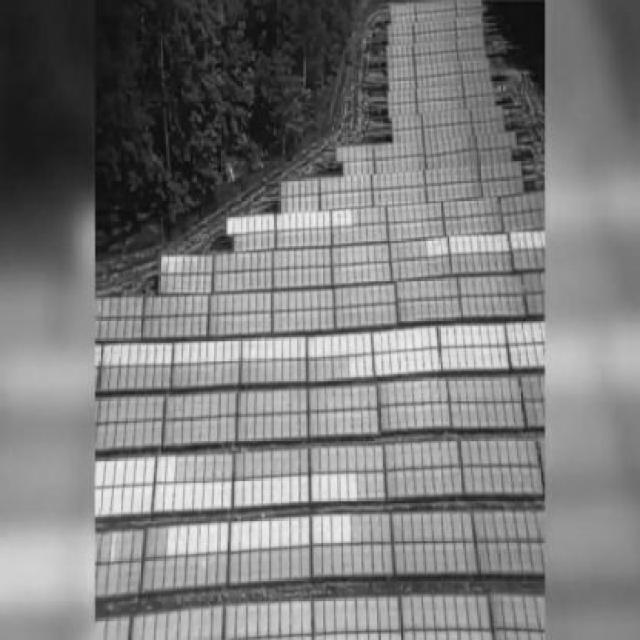diode: (104, 453, 116, 481), (236, 479, 247, 507), (312, 514, 322, 544), (250, 522, 262, 547), (144, 453, 156, 478), (114, 454, 126, 478), (124, 454, 136, 478), (134, 454, 146, 478), (232, 523, 242, 551), (99, 485, 110, 510), (163, 452, 174, 476), (227, 478, 236, 507), (168, 527, 178, 553), (198, 526, 208, 552), (333, 516, 342, 544), (323, 515, 332, 543), (349, 472, 358, 500), (165, 483, 173, 514), (291, 518, 300, 545), (271, 521, 280, 548), (243, 522, 252, 549), (256, 476, 264, 506), (246, 476, 254, 506), (280, 520, 289, 546), (341, 473, 350, 499), (141, 483, 150, 509), (212, 480, 220, 509), (154, 453, 164, 476), (122, 337, 132, 360), (314, 475, 323, 500), (298, 476, 307, 501), (270, 476, 279, 501), (141, 335, 150, 360), (262, 519, 270, 547), (179, 525, 187, 553), (262, 475, 270, 503), (95, 453, 103, 481), (177, 483, 185, 511), (193, 479, 201, 507), (122, 486, 132, 508), (192, 336, 202, 358), (258, 335, 268, 357), (356, 356, 366, 378), (498, 325, 508, 347), (190, 525, 198, 552), (210, 524, 218, 551), (324, 475, 333, 499), (186, 482, 194, 509), (157, 485, 165, 512), (454, 325, 464, 346), (514, 328, 524, 349), (290, 476, 298, 502), (221, 524, 228, 553), (267, 335, 276, 357), (489, 350, 498, 372), (487, 323, 496, 345), (520, 348, 529, 370), (333, 474, 341, 498), (280, 477, 288, 501), (292, 335, 302, 354), (416, 332, 426, 351), (446, 352, 456, 371), (111, 487, 120, 508), (528, 328, 537, 349), (463, 351, 472, 372), (111, 533, 117, 564), (346, 514, 352, 544), (374, 358, 384, 376), (496, 352, 506, 370), (102, 340, 110, 362), (472, 350, 480, 372), (293, 212, 302, 231), (421, 326, 430, 345), (367, 358, 376, 377), (303, 515, 309, 543), (222, 479, 228, 507), (133, 482, 139, 510), (202, 337, 210, 358), (386, 354, 394, 375), (453, 347, 461, 368), (509, 327, 517, 348), (183, 340, 192, 358), (349, 337, 358, 355), (373, 335, 382, 353), (464, 325, 473, 343), (480, 350, 489, 368), (335, 335, 342, 357), (439, 326, 446, 348), (395, 355, 402, 377), (277, 336, 285, 355), (473, 326, 481, 345), (202, 480, 208, 505), (439, 352, 446, 373), (246, 215, 254, 233), (287, 212, 295, 230), (112, 342, 120, 360), (134, 338, 140, 362), (209, 338, 217, 356), (358, 338, 367, 354), (429, 327, 437, 345), (499, 352, 508, 368), (479, 235, 487, 253), (526, 232, 534, 250), (405, 355, 412, 374), (431, 353, 438, 372), (168, 338, 174, 360), (94, 338, 100, 360), (246, 339, 252, 361), (286, 336, 292, 358), (382, 333, 388, 355), (391, 332, 397, 354), (302, 336, 308, 358), (302, 212, 310, 228), (399, 336, 407, 352), (512, 233, 520, 249), (530, 349, 538, 365), (151, 337, 157, 358), (251, 338, 258, 356), (368, 334, 374, 355), (350, 357, 356, 378), (510, 347, 516, 368), (310, 476, 315, 501), (176, 339, 182, 359), (429, 241, 437, 256), (441, 238, 448, 255), (539, 349, 546, 366), (342, 335, 348, 354), (410, 333, 416, 352), (537, 329, 543, 348), (414, 355, 420, 374), (521, 233, 527, 252), (324, 336, 330, 355), (228, 218, 234, 237), (239, 218, 247, 232), (331, 212, 338, 228), (343, 212, 351, 226), (482, 325, 487, 347), (254, 214, 260, 232), (261, 214, 267, 232), (149, 485, 153, 512), (160, 338, 166, 356), (316, 337, 322, 355), (328, 338, 334, 356), (236, 340, 242, 358), (448, 327, 454, 345), (422, 355, 428, 373), (474, 237, 481, 252), (436, 239, 442, 256), (490, 235, 496, 252), (502, 236, 508, 253), (168, 257, 174, 274), (176, 257, 182, 274), (310, 213, 316, 229), (226, 341, 232, 357), (452, 238, 458, 254), (460, 238, 466, 254), (219, 339, 224, 358), (280, 214, 286, 229), (236, 217, 241, 235), (496, 238, 502, 253), (96, 484, 99, 511), (323, 213, 329, 225), (467, 240, 473, 252), (309, 338, 313, 356), (537, 233, 541, 250), (317, 211, 321, 227), (275, 215, 279, 230), (268, 217, 272, 231), (338, 214, 342, 228), (542, 233, 544, 247)
hotspot: (164, 256, 168, 266)
